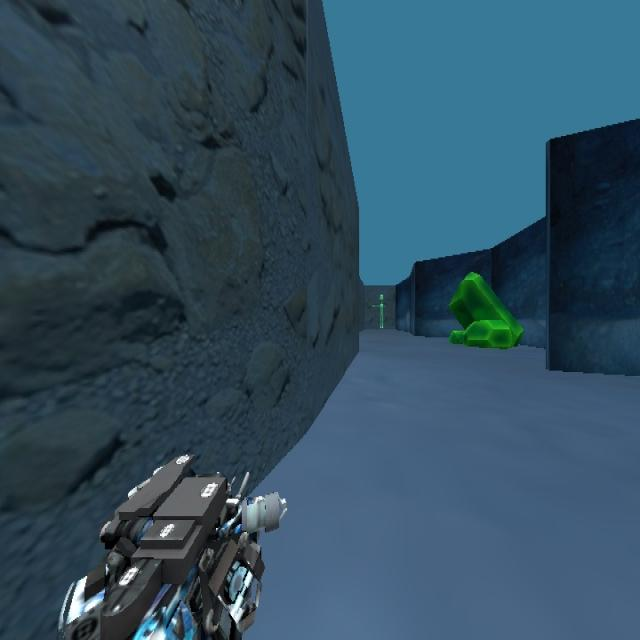Alien: (372, 254, 393, 356)
Diamon: (447, 269, 524, 348)
